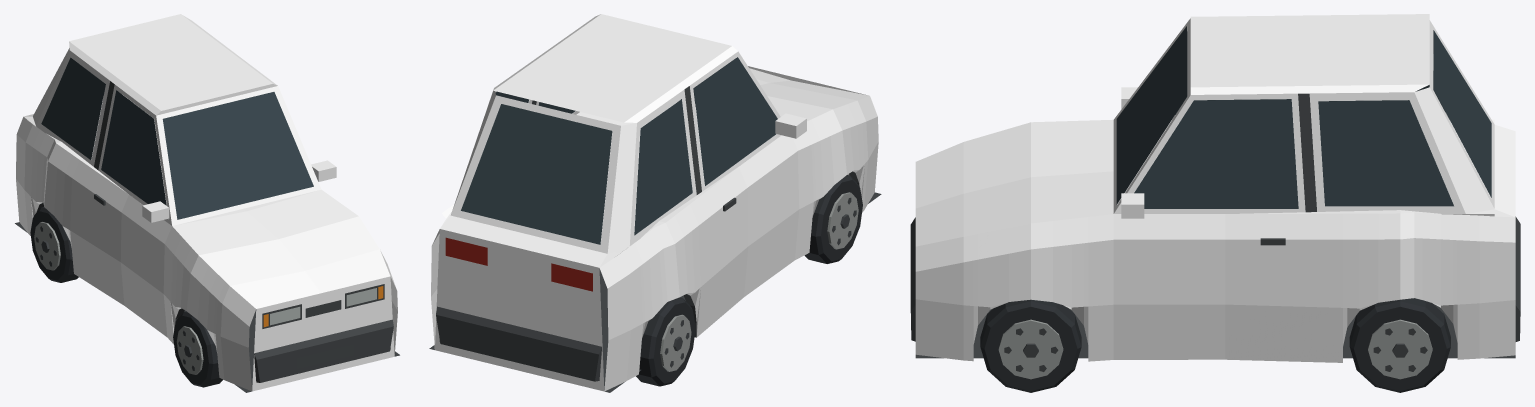
The model's file is sanga_yanagi_s.glb.
3 views of the same model, side by side, from view 1: azimuth 30°, elevation 25°; view 2: azimuth 150°, elevation 25°; view 3: azimuth 270°, elevation 25° (orthographic). The views are drawn at different scales.
Visible parts, largest first — view 1: sanga_yanagi_s; view 2: sanga_yanagi_s; view 3: sanga_yanagi_s.
Boxes of the visible parts, bbox=[...] form: sanga_yanagi_s: bbox=[15, 14, 399, 392]; sanga_yanagi_s: bbox=[429, 14, 881, 392]; sanga_yanagi_s: bbox=[910, 14, 1520, 392].
Bounding box in the file's own units: 1.44 × 1.66 × 3.17.
Materials: 8 (1 with a texture image).
